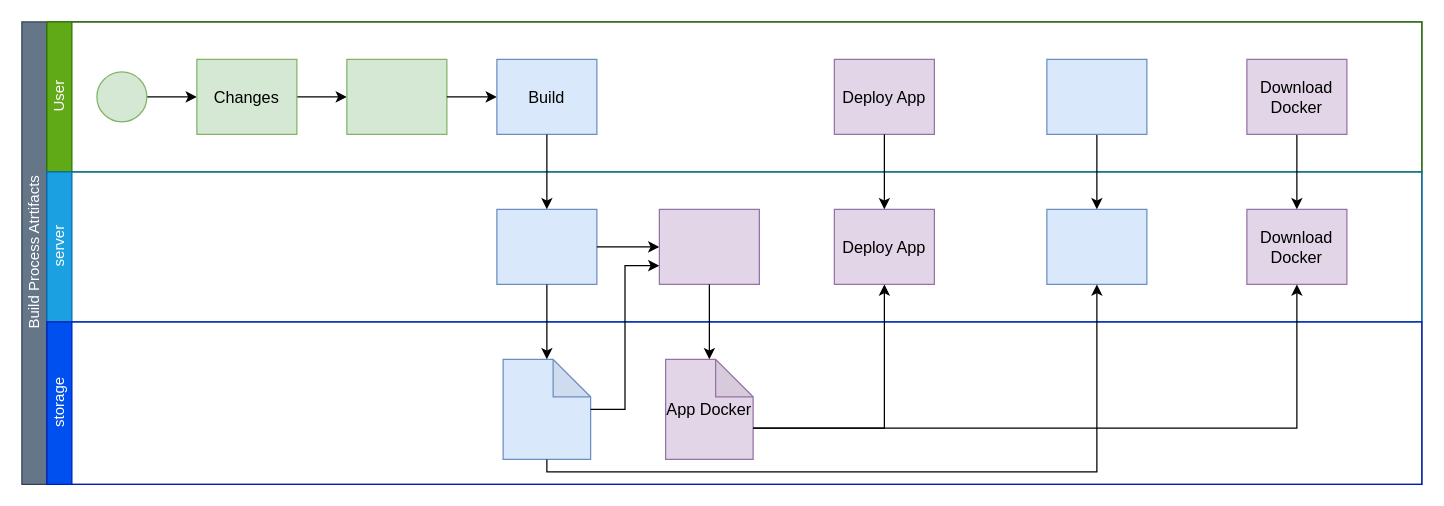
This 1444x506 diagram has some shape labels left out. Here are the shapes that lost their labels. From the top down, the centre of each, then its label:
At [396,96]: "Commit".
At [1096,96]: "Download Code".
At [546,246]: "Generate App Code".
At [708,246]: "Build App Docker".
At [1096,246]: "Download App Code".
At [546,408]: "App code ZIP".
